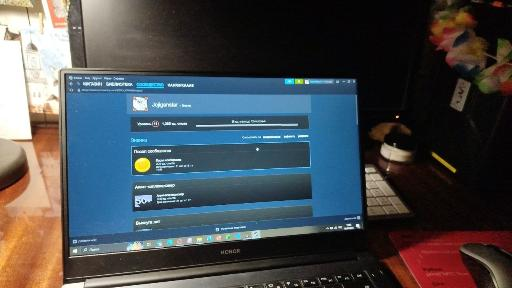steam: (66, 75, 363, 245)
